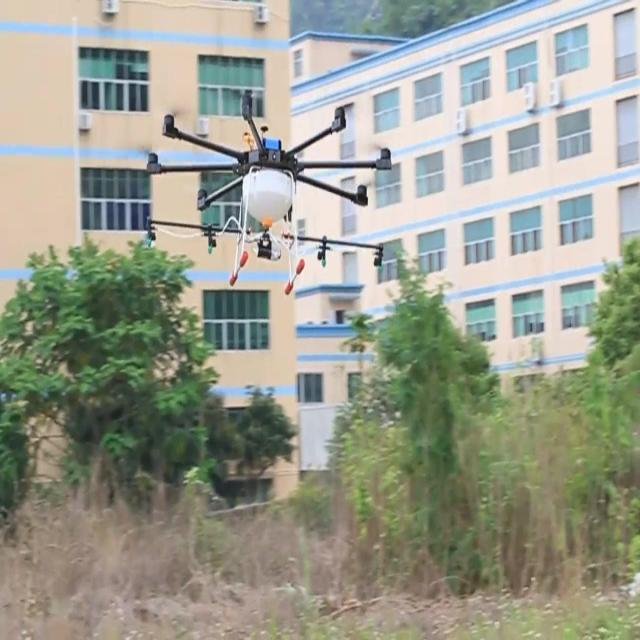drone: (143, 83, 393, 298)
